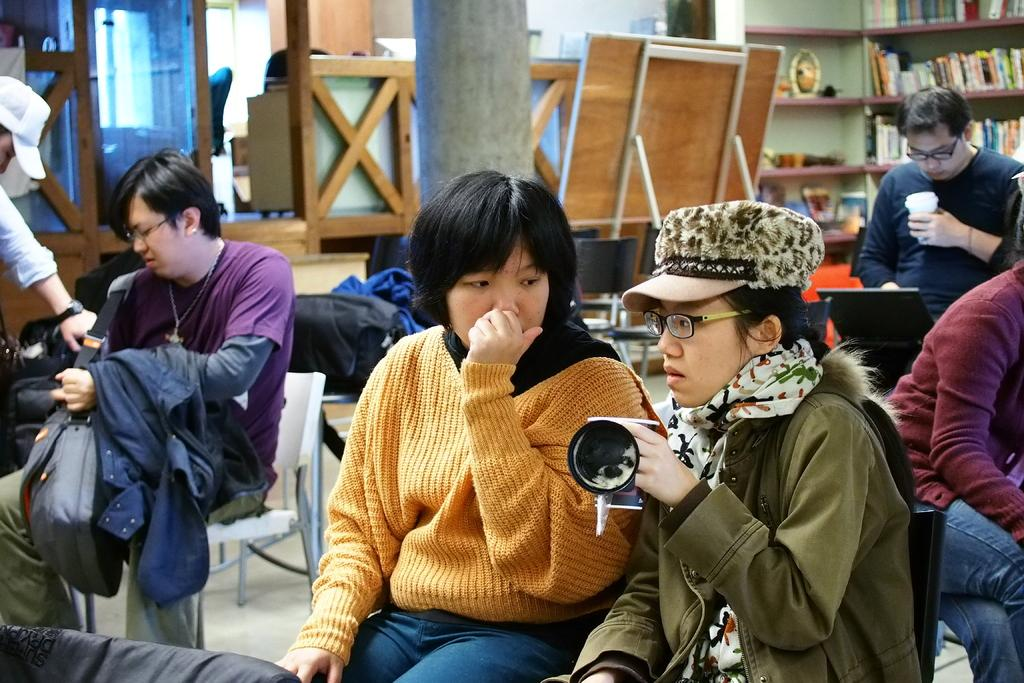Hat: (620, 197, 826, 319), (0, 74, 52, 179)
